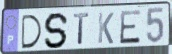5: (146, 6, 165, 46)
D: (21, 14, 44, 50)
E: (118, 9, 142, 46)
K: (97, 11, 115, 45)
S: (43, 12, 71, 50)
T: (72, 12, 91, 47)
